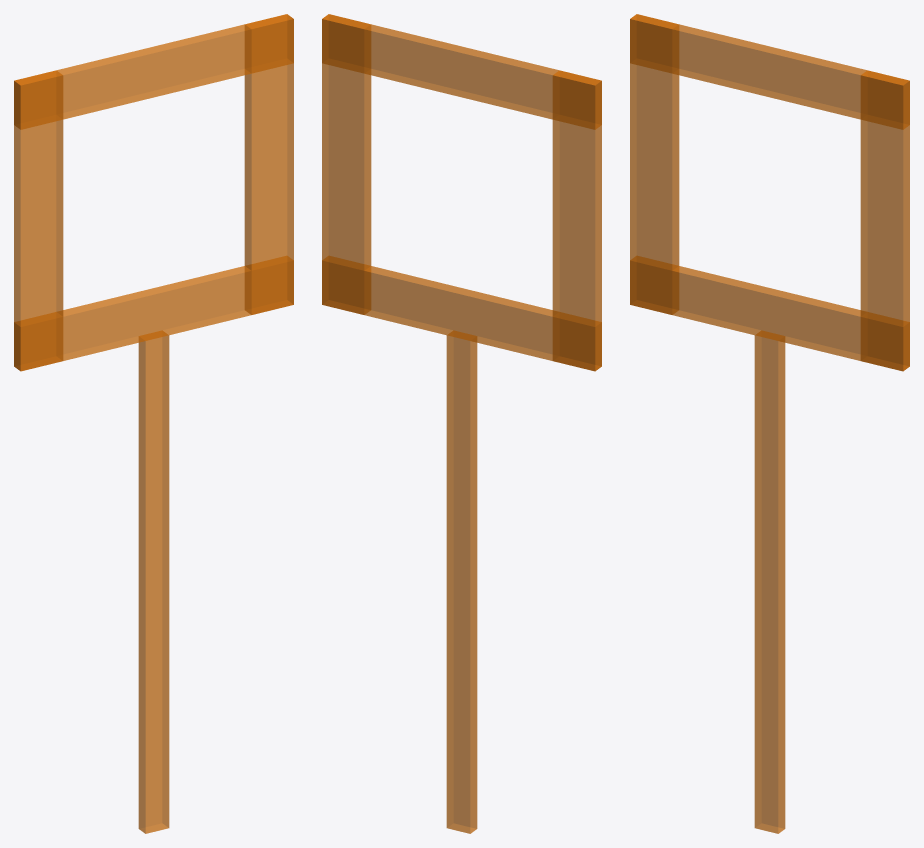
Rendered from gate_not_sure.dae.
3 renders of one model, left to right at view 1: azimuth 30°, elevation 25°; view 2: azimuth 150°, elevation 25°; view 3: azimuth 330°, elevation 25°, orthographic.
Visible parts, largest first — view 1: Cube, red_edge, grey_edge, blue_edge, green_edge; view 2: Cube, grey_edge, red_edge, blue_edge, green_edge; view 3: Cube, grey_edge, red_edge, blue_edge, green_edge.
Part boxes in pixels (<box>): Cube: <box>138,330,169,833</box>; red_edge: <box>14,70,63,370</box>; grey_edge: <box>244,14,293,314</box>; blue_edge: <box>14,14,293,129</box>; green_edge: <box>14,256,293,371</box>; Cube: <box>446,330,477,833</box>; grey_edge: <box>322,14,371,314</box>; red_edge: <box>552,70,601,370</box>; blue_edge: <box>322,14,601,129</box>; green_edge: <box>322,256,601,371</box>; Cube: <box>754,330,785,833</box>; grey_edge: <box>860,70,909,370</box>; red_edge: <box>630,14,679,314</box>; blue_edge: <box>630,14,909,129</box>; green_edge: <box>630,256,909,371</box>.
Size of the model in its own units: 0.58 by 0.025 by 1.58.
